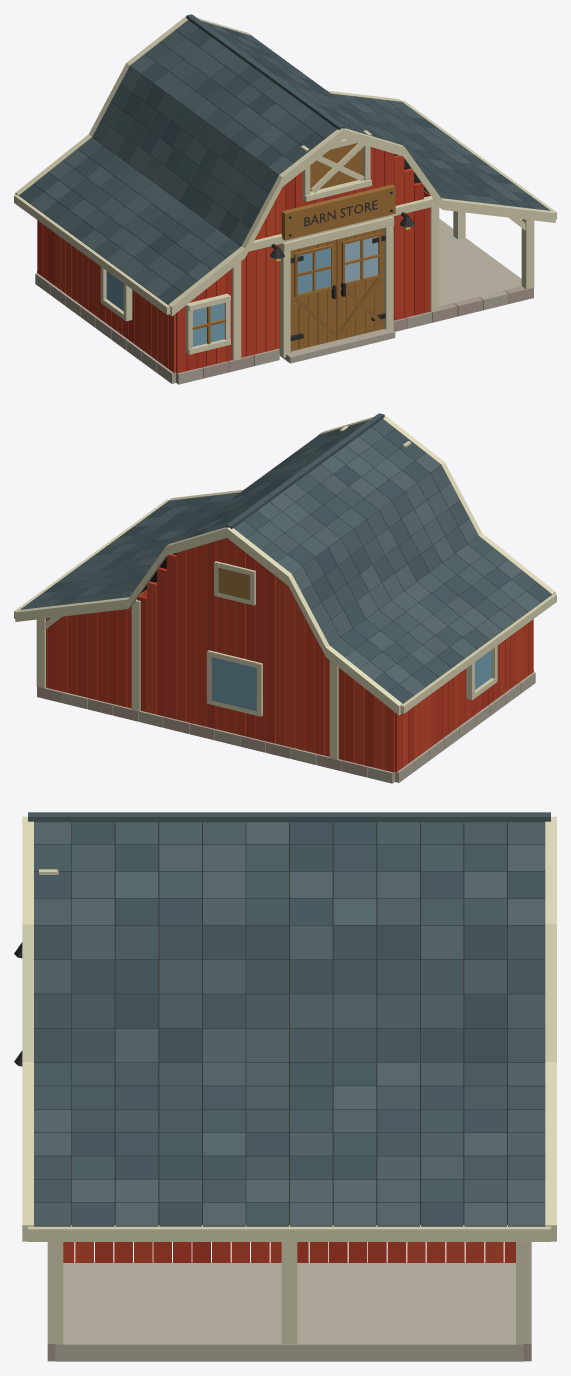
File: Farm_BarnStore_B.fbx
3 renders of one model, top to bottom at view 1: azimuth 30°, elevation 25°; view 2: azimuth 150°, elevation 25°; view 3: azimuth 270°, elevation 25°, orthographic. The views are drawn at different scales.
Parts seen in each view (by area): view 1: Farm_BarnStore_B; view 2: Farm_BarnStore_B; view 3: Farm_BarnStore_B.
Part boxes in pixels (bbox=[...]): Farm_BarnStore_B: bbox=[14, 14, 556, 384]; Farm_BarnStore_B: bbox=[14, 413, 556, 783]; Farm_BarnStore_B: bbox=[14, 812, 556, 1361].
Size of the model in its own units: 9.86 by 5.4 by 6.96.
